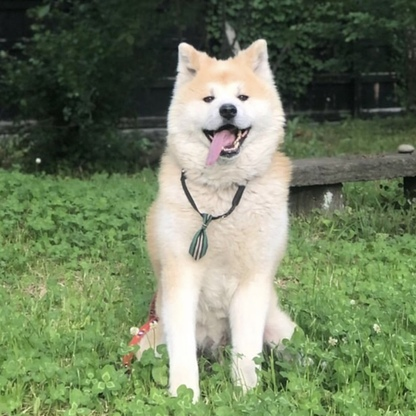akita: (122, 33, 319, 406)
